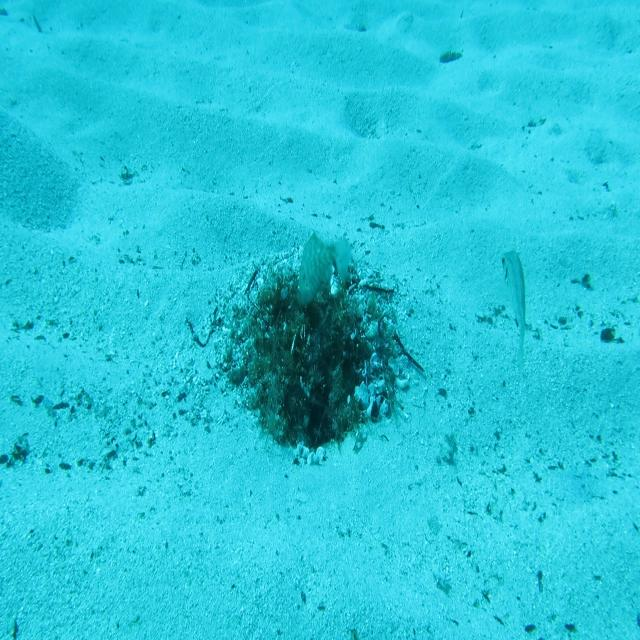NIP_CORE: (296, 229, 354, 315)
core_nest: (284, 292, 332, 330)
female: (500, 249, 529, 387)
nest: (207, 240, 416, 480)
vegetation: (439, 49, 464, 69)
